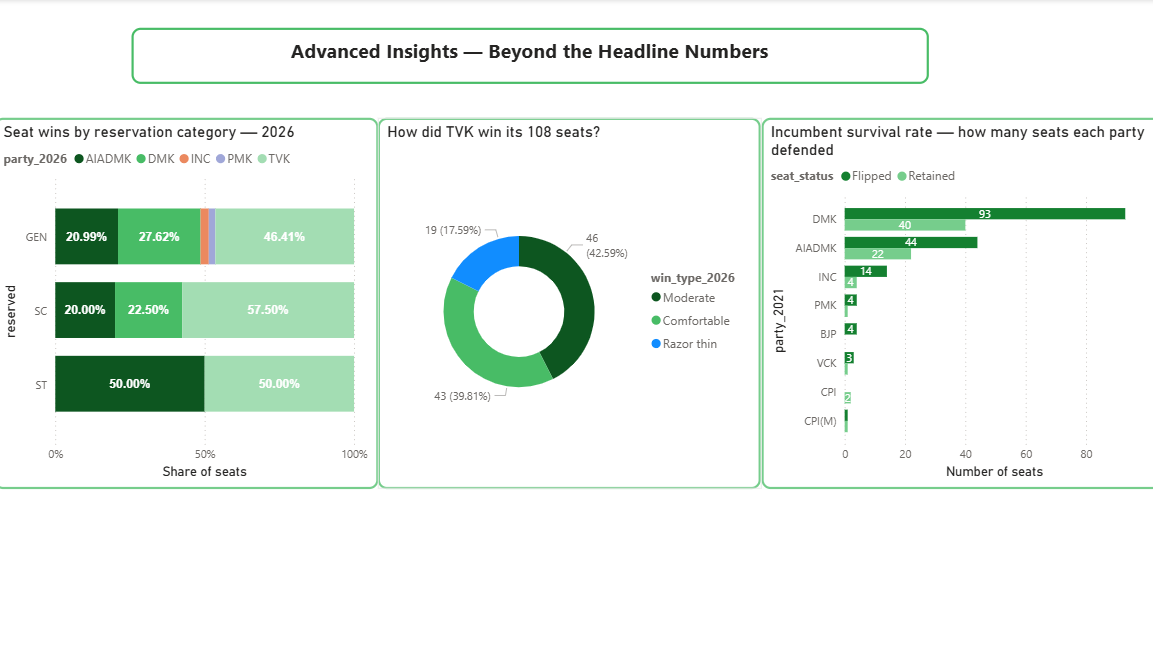

The page's visual inventory and layout, read from the dashboard file:
{"tool":"powerbi","page":{"name":"Page 1","canvas":[1280,720],"ordinal":4},"visuals":[{"type":"clusteredBarChart","title":"Incumbent survival rate — how many seats each party defended","fields":{"Category":["tn_master.party_2021"],"Y":["CountNonNull(tn_master.ac_number)"],"Series":["tn_master.seat_status"]},"box":[841.4,130,438.6,407.1],"z":0},{"type":"hundredPercentStackedBarChart","title":"Seat wins by reservation category — 2026","fields":{"Category":["tn_master.reserved"],"Y":["CountNonNull(tn_master.ac_number)"],"Series":["tn_master.party_2026"]},"box":[0,130,421.4,407.1],"z":1000},{"type":"donutChart","title":"How did TVK win its 108 seats?","fields":{"Category":["tn_master_advanced.win_type_2026"],"Y":["CountNonNull(tn_master_advanced.ac_number)"]},"box":[421.4,130,420,407.1],"z":2000},{"type":"textbox","box":[151.4,31.4,874.3,61.4],"z":3000}]}

Visuals, with their boxes in screenshot pixels (x1, y1, x2, y2), scaled from the page's 1280x720 canvas onto the 1153x653 screenshot:
"Incumbent survival rate — how many seats each party defended" clusteredBarChart: {"x1": 758, "y1": 118, "x2": 1152, "y2": 487}
"Seat wins by reservation category — 2026" hundredPercentStackedBarChart: {"x1": 0, "y1": 118, "x2": 380, "y2": 487}
"How did TVK win its 108 seats?" donutChart: {"x1": 380, "y1": 118, "x2": 758, "y2": 487}
textbox: {"x1": 136, "y1": 28, "x2": 924, "y2": 84}
